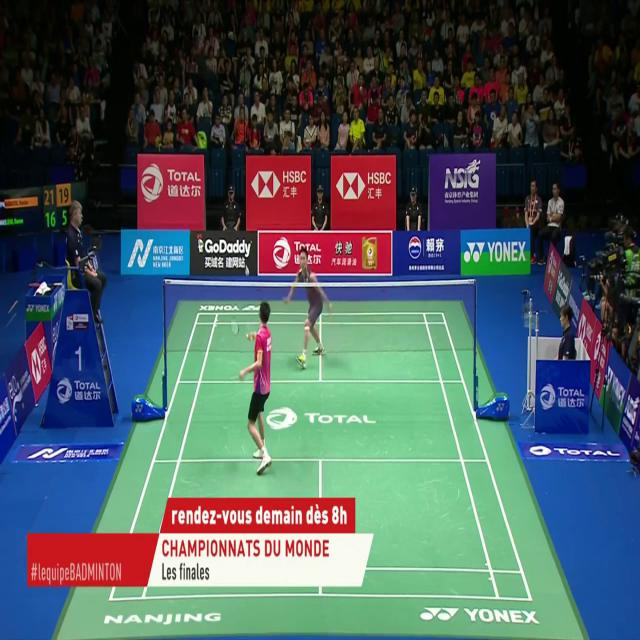Shuttlecock: (244, 264, 251, 275)
